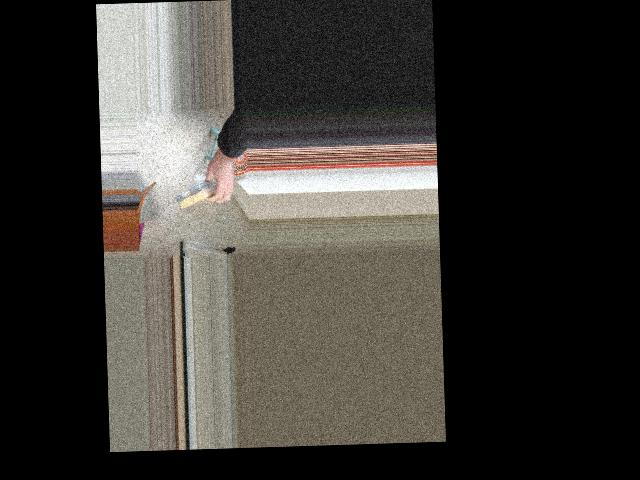cheese: (171, 168, 239, 224)
